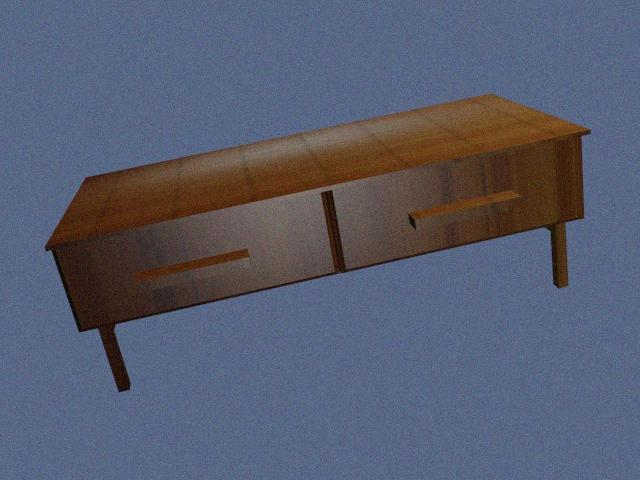cabinet_door: (65, 221, 329, 303), (340, 162, 582, 244)
handle: (401, 183, 522, 233), (137, 246, 252, 289)
